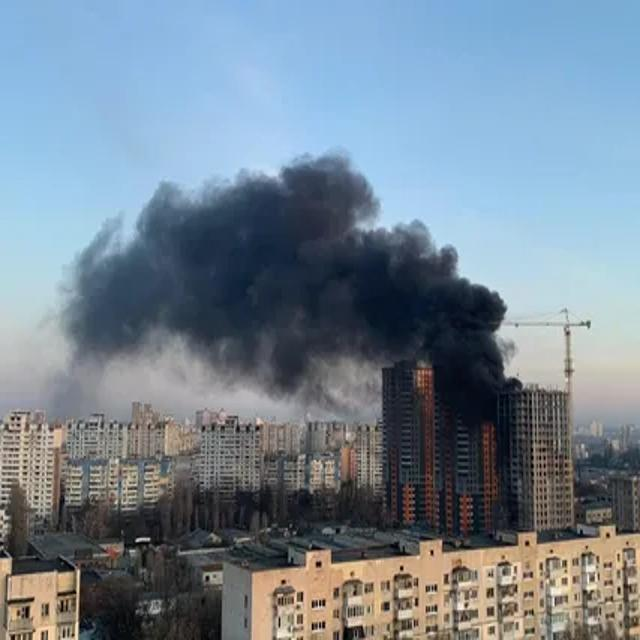Smoke: (61, 144, 521, 413)
